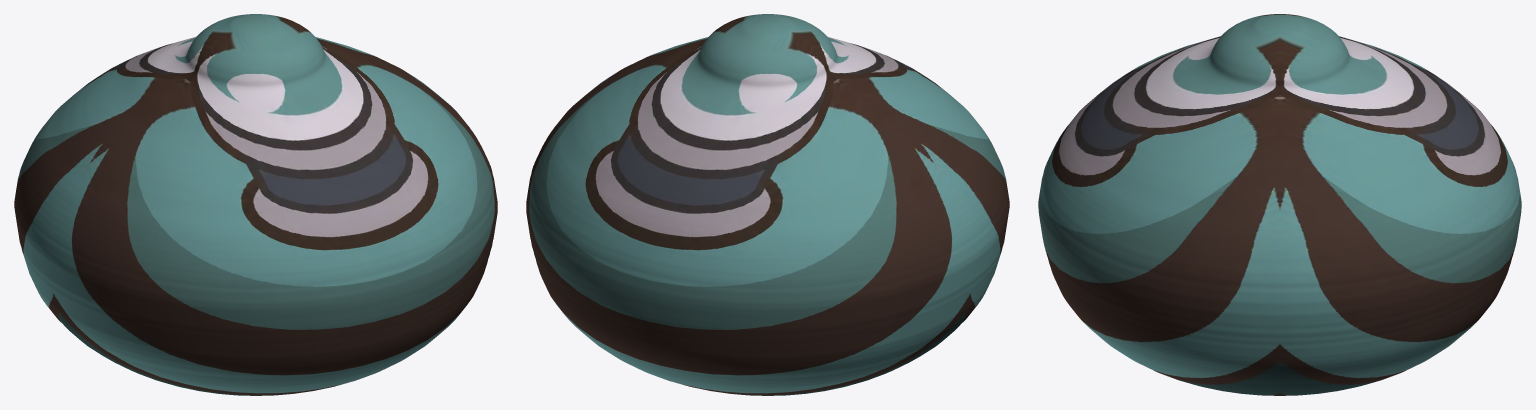
The model's file is round_pedestal.glb.
The picture shows the model from 3 angles, left to right: view 1: azimuth 30°, elevation 25°; view 2: azimuth 150°, elevation 25°; view 3: azimuth 270°, elevation 25°; orthographic projection.
Visible parts, largest first — view 1: round_pedestal; view 2: round_pedestal; view 3: round_pedestal.
Part boxes in pixels (left/top/right/bottom): round_pedestal: left=14, top=14, right=497, bottom=395; round_pedestal: left=526, top=14, right=1009, bottom=395; round_pedestal: left=1038, top=14, right=1521, bottom=395.
Bounding box in the file's own units: 1 × 0.7704 × 1.
1 material, 1 textured.
